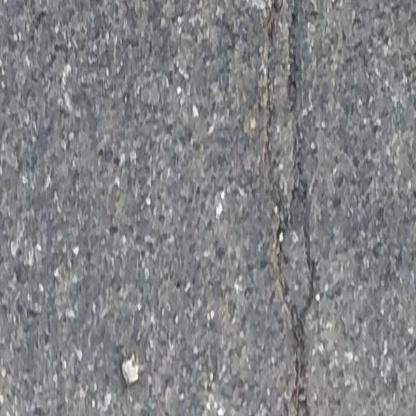Cracks: (258, 0, 322, 416)
